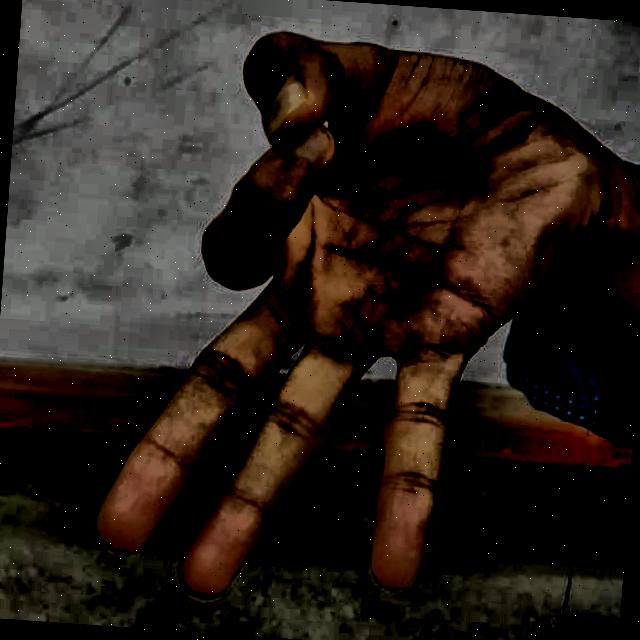Fa: (54, 0, 620, 632)
